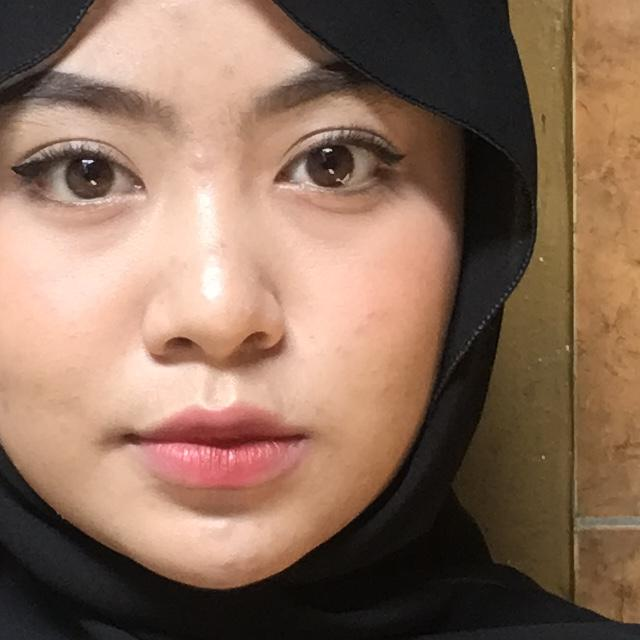ibu: (0, 206, 220, 640)
